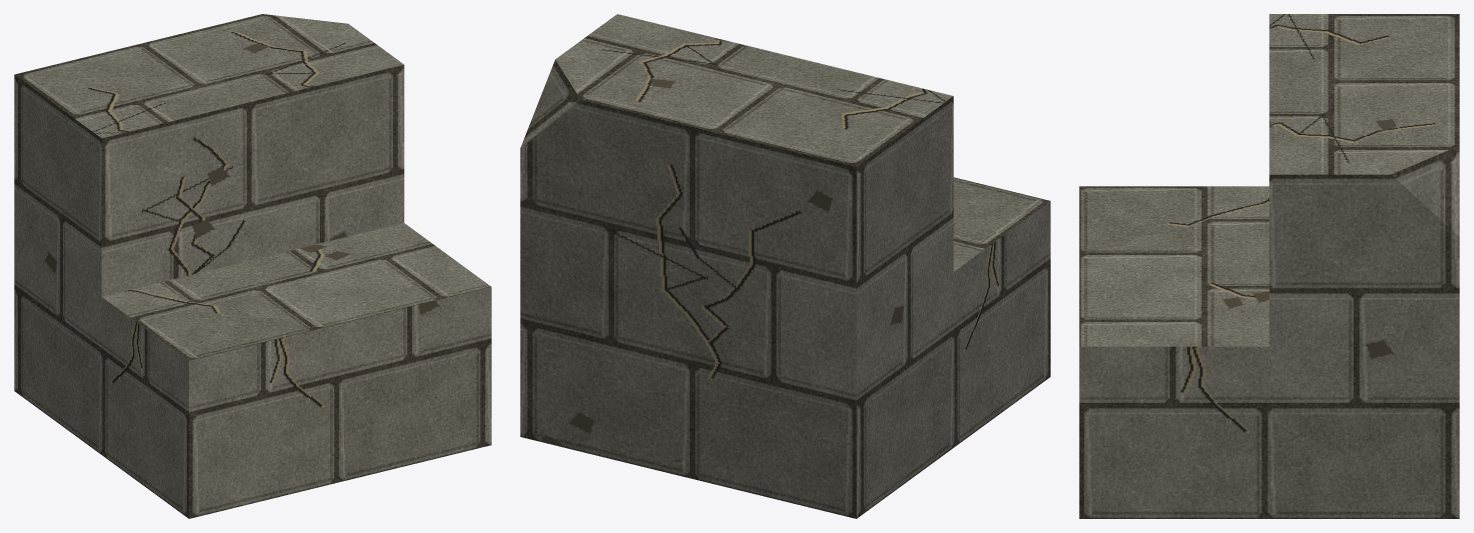
File: stairs_z1.glb
The picture shows the model from 3 angles, left to right: view 1: azimuth 30°, elevation 25°; view 2: azimuth 150°, elevation 25°; view 3: azimuth 270°, elevation 25°; orthographic projection. The views are drawn at different scales.
Visible parts, largest first — view 1: stairs_z1; view 2: stairs_z1; view 3: stairs_z1.
Part boxes in pixels (box(x1,y1,x2,y2)): stairs_z1: box(14, 14, 491, 518); stairs_z1: box(520, 14, 1050, 518); stairs_z1: box(1079, 14, 1459, 518).
Size of the model in its own units: 1 by 1 by 1.
1 material, 1 textured.
